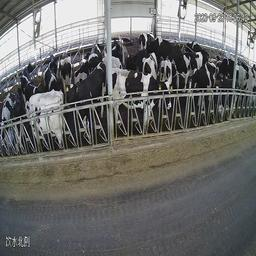cow: (111, 61, 173, 142), (25, 87, 65, 164), (67, 64, 106, 140), (188, 56, 218, 111), (8, 83, 25, 161), (220, 72, 240, 122), (173, 44, 200, 76), (240, 64, 255, 110), (60, 47, 73, 82), (44, 67, 59, 94), (158, 51, 171, 80), (21, 58, 34, 86), (137, 28, 148, 52), (47, 49, 58, 71)
